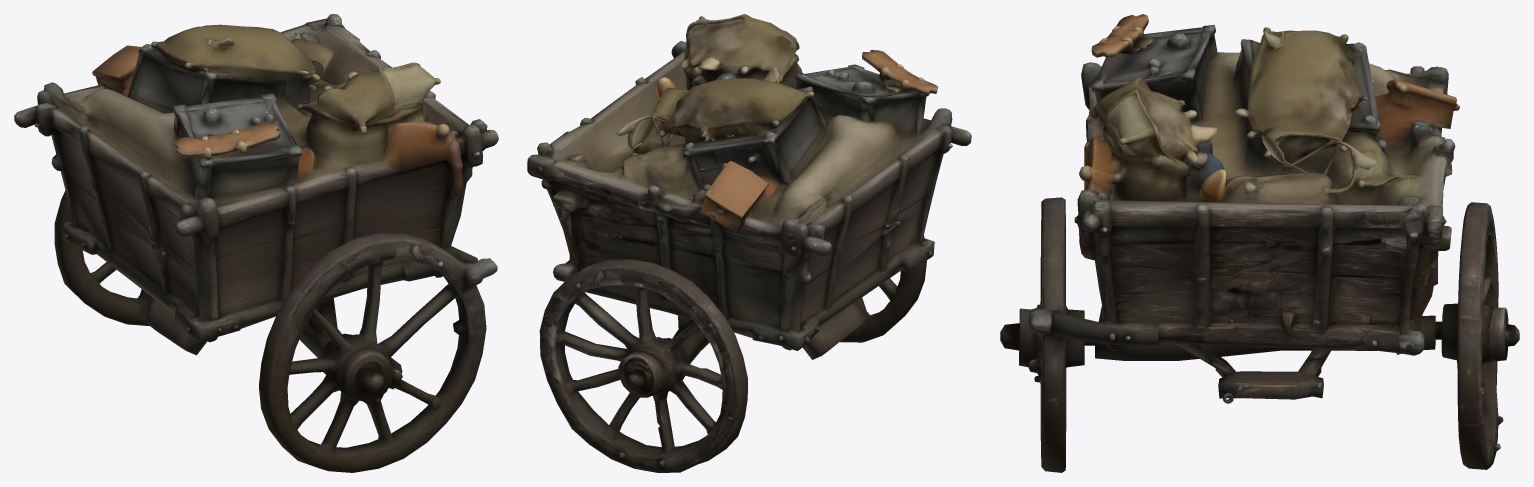
File: cart.glb
The picture shows the model from 3 angles, left to right: view 1: azimuth 30°, elevation 25°; view 2: azimuth 150°, elevation 25°; view 3: azimuth 270°, elevation 25°; orthographic projection. The views are drawn at different scales.
Visible parts, largest first — view 1: tripo_node_f391efef-f396-49d3-b0ac-8cb10adfb121; view 2: tripo_node_f391efef-f396-49d3-b0ac-8cb10adfb121; view 3: tripo_node_f391efef-f396-49d3-b0ac-8cb10adfb121.
Boxes of the visible parts, x1,y1,x2,y2 form: tripo_node_f391efef-f396-49d3-b0ac-8cb10adfb121: (14, 14, 498, 472); tripo_node_f391efef-f396-49d3-b0ac-8cb10adfb121: (527, 14, 971, 472); tripo_node_f391efef-f396-49d3-b0ac-8cb10adfb121: (1000, 14, 1519, 472).
Bounding box in the file's own units: 0.7935 × 0.8569 × 0.9995.
1 material, 1 textured.
